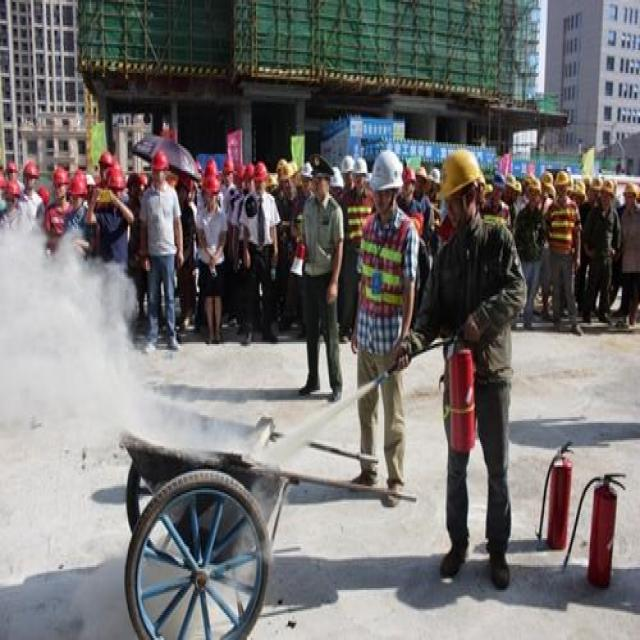Reflective-Jacket: (357, 211, 412, 319), (549, 196, 577, 250)
Safety-Helmet: (437, 148, 485, 202), (366, 148, 406, 196), (151, 148, 170, 173)
